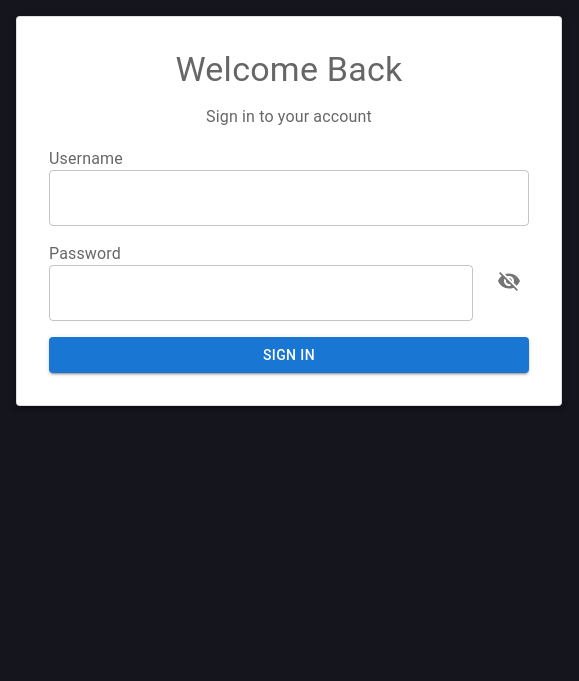
Test: SignInPage › shows error snackbar on failed login
Type "user" into the field labelled "Username" at x=289, y=198, box [49, 170, 529, 226]
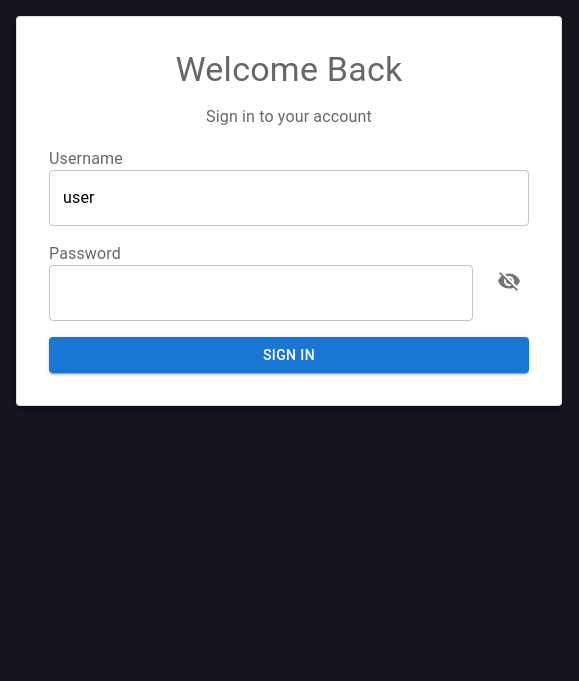
Type "wrongpass" into the password field labelled "Password" at x=261, y=293, box [49, 265, 473, 321]
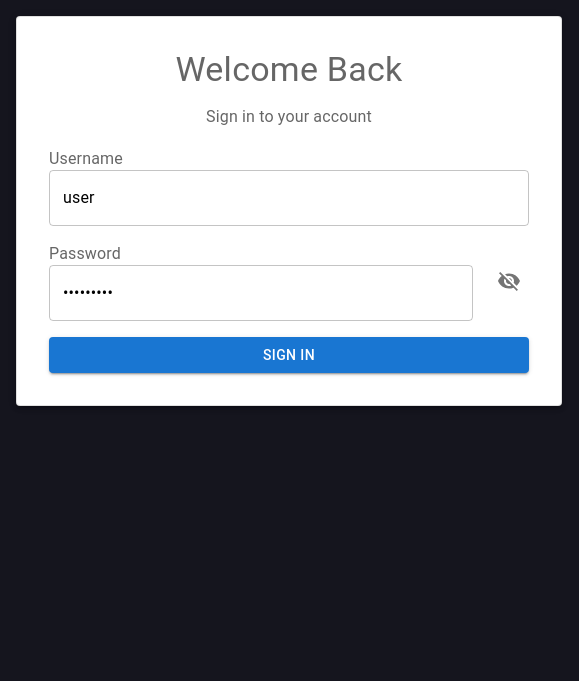
Click the button "Sign In" at x=289, y=355, box [49, 337, 529, 373]
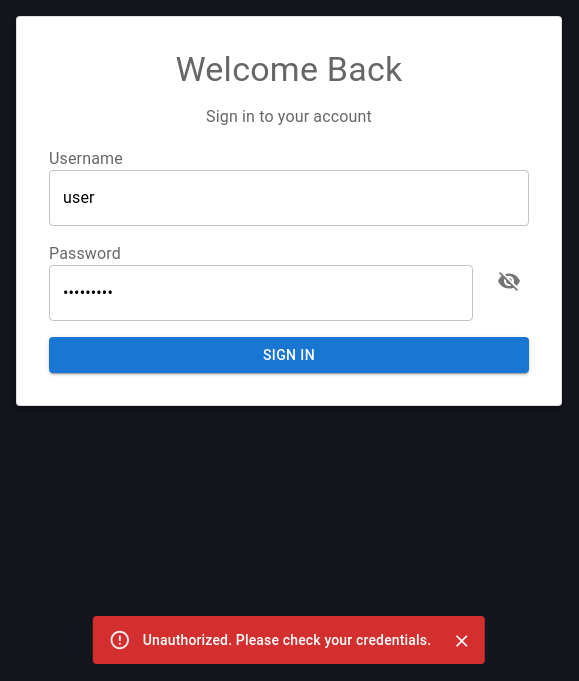
Result: the text "Unauthorized. Please check your credentials." is shown at [143, 632, 431, 648]
